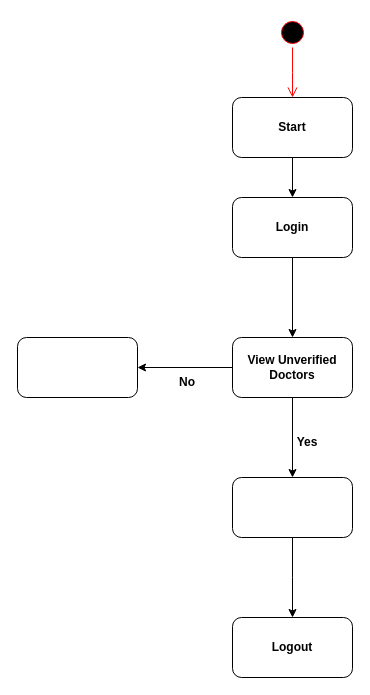
The diagram is 370 pixels wide and 695 high, and some of its shapes have lost their labels. The shapes that lost their labels are listed below. From the top down, each one's centre as x and y in pixels, then its label:
[77,367]: Reject
[292,507]: Add to Verified Doctors
